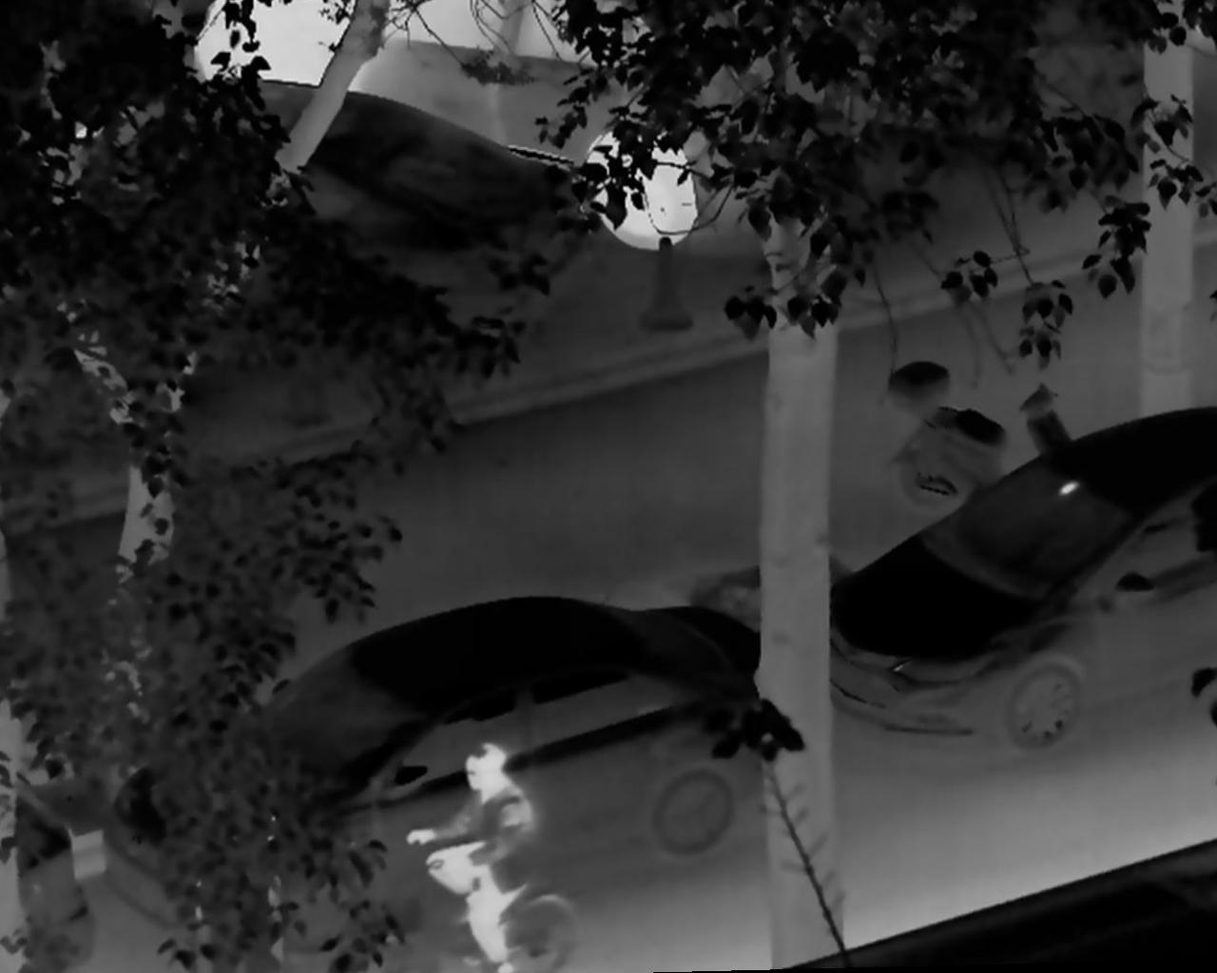person: (407, 745, 535, 973)
